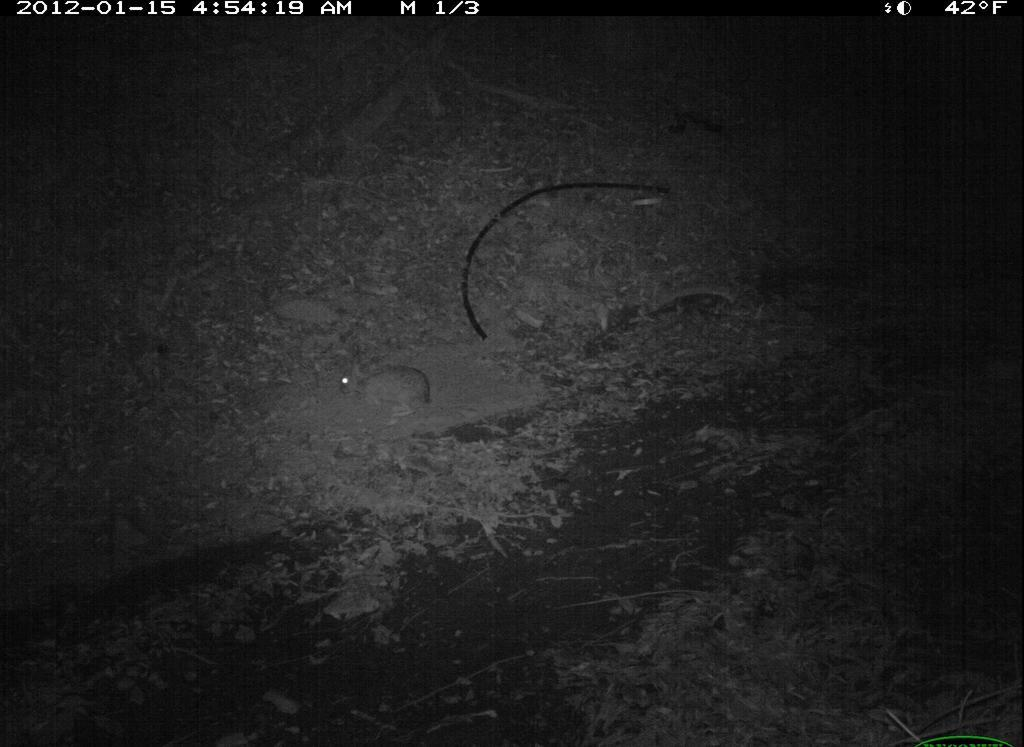rabbit: (331, 350, 445, 427)
